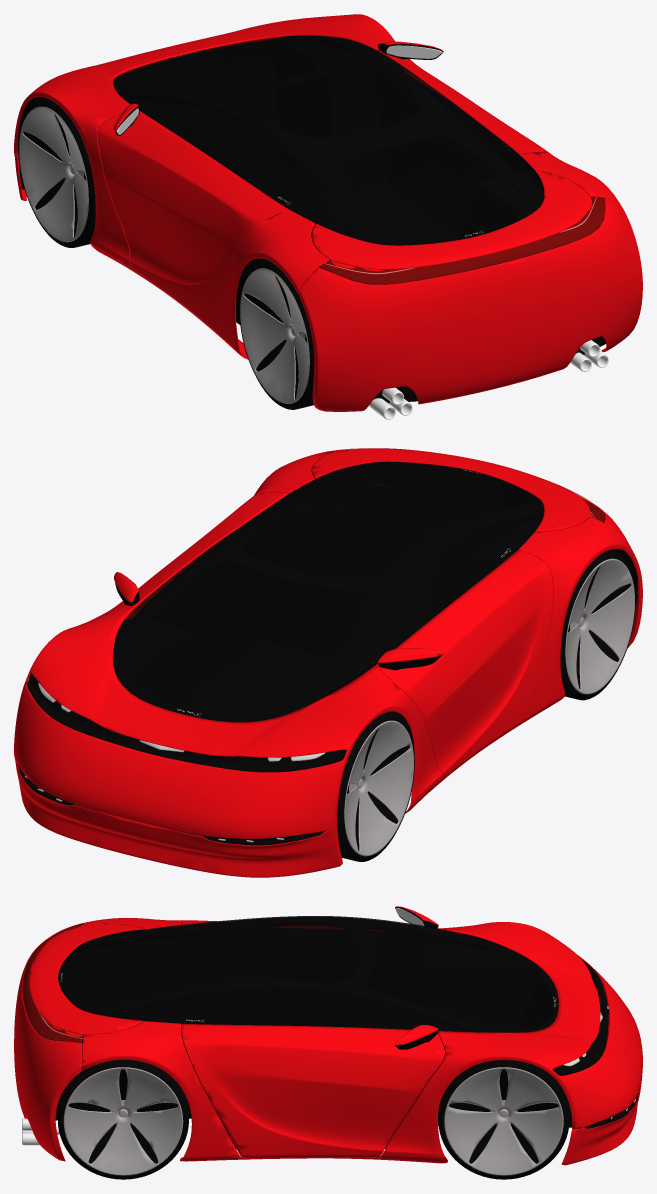
3 renders of one model, top to bottom at view 1: azimuth 30°, elevation 25°; view 2: azimuth 150°, elevation 25°; view 3: azimuth 270°, elevation 25°, orthographic. The views are drawn at different scales.
Parts seen in each view (by area): view 1: future_car_002_by_unityfan_carpaint_0, future_car_002_by_unityfan_glass1_0, future_car_002_by_unityfan_blocker_0, future_car_002_by_unityfan_plastic_0, future_car_002_by_unityfan_metal2_0, future_car_002_by_unityfan_glass3_0, future_car_002_by_unityfan_rubber_0, future_car_002_by_unityfan_metal1_0, future_car_002_by_unityfan_chrome_0; view 2: future_car_002_by_unityfan_carpaint_0, future_car_002_by_unityfan_glass1_0, future_car_002_by_unityfan_blocker_0, future_car_002_by_unityfan_plastic_0, future_car_002_by_unityfan_metal2_0, future_car_002_by_unityfan_rubber_0, future_car_002_by_unityfan_glass2_0, future_car_002_by_unityfan_chrome_0; view 3: future_car_002_by_unityfan_carpaint_0, future_car_002_by_unityfan_glass1_0, future_car_002_by_unityfan_blocker_0, future_car_002_by_unityfan_metal2_0, future_car_002_by_unityfan_plastic_0, future_car_002_by_unityfan_rubber_0, future_car_002_by_unityfan_glass3_0, future_car_002_by_unityfan_chrome_0.
Boxes of the visible parts, box(x1,y1,x2,y2) form: future_car_002_by_unityfan_carpaint_0: box(14, 14, 642, 411); future_car_002_by_unityfan_glass1_0: box(118, 37, 544, 245); future_car_002_by_unityfan_blocker_0: box(17, 35, 605, 403); future_car_002_by_unityfan_plastic_0: box(17, 38, 604, 284); future_car_002_by_unityfan_metal2_0: box(19, 106, 309, 403); future_car_002_by_unityfan_glass3_0: box(320, 197, 604, 284); future_car_002_by_unityfan_rubber_0: box(18, 35, 405, 409); future_car_002_by_unityfan_metal1_0: box(369, 340, 608, 419); future_car_002_by_unityfan_chrome_0: box(116, 45, 596, 274); future_car_002_by_unityfan_carpaint_0: box(14, 448, 642, 877); future_car_002_by_unityfan_glass1_0: box(118, 461, 544, 722); future_car_002_by_unityfan_blocker_0: box(19, 462, 637, 850); future_car_002_by_unityfan_plastic_0: box(18, 452, 604, 844); future_car_002_by_unityfan_metal2_0: box(344, 558, 634, 856); future_car_002_by_unityfan_rubber_0: box(113, 550, 635, 861); future_car_002_by_unityfan_glass2_0: box(15, 673, 322, 844); future_car_002_by_unityfan_chrome_0: box(25, 470, 594, 842); future_car_002_by_unityfan_carpaint_0: box(14, 906, 642, 1165); future_car_002_by_unityfan_glass1_0: box(58, 916, 558, 1031); future_car_002_by_unityfan_blocker_0: box(47, 924, 628, 1163); future_car_002_by_unityfan_metal2_0: box(63, 1067, 563, 1175); future_car_002_by_unityfan_plastic_0: box(22, 907, 638, 1128); future_car_002_by_unityfan_rubber_0: box(57, 949, 569, 1179); future_car_002_by_unityfan_glass3_0: box(22, 923, 82, 1042); future_car_002_by_unityfan_chrome_0: box(39, 908, 635, 1119).
Bounding box in the file's own units: 2.34 × 1.29 × 4.5.
